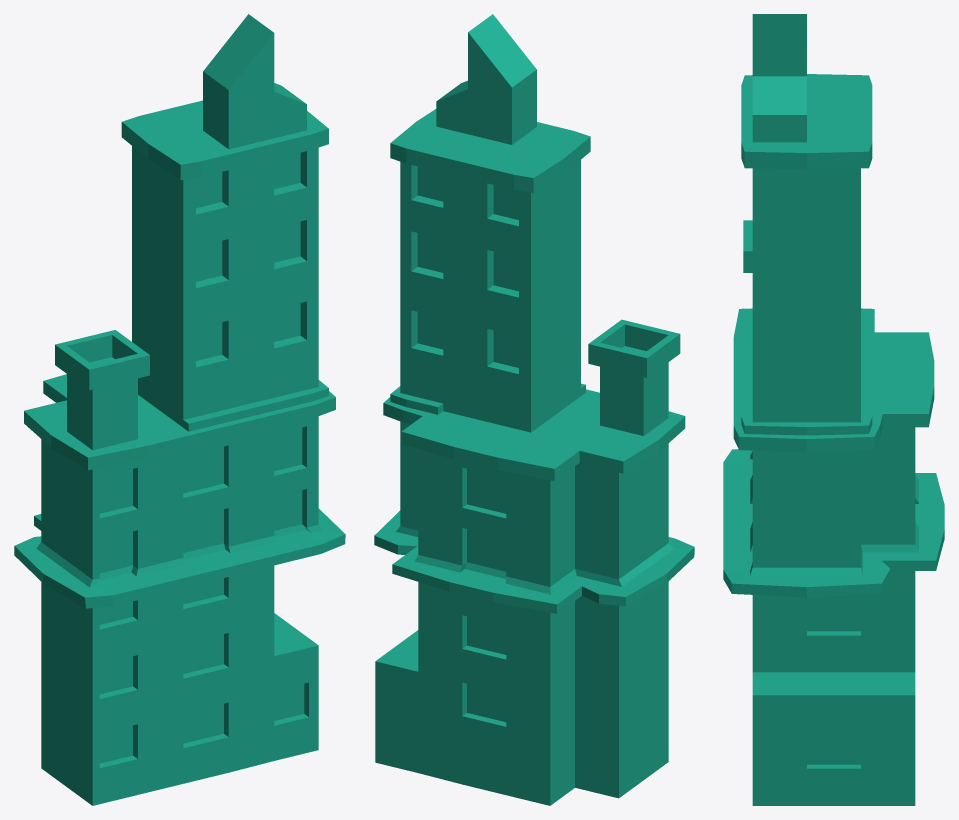
The picture shows the model from 3 angles, left to right: view 1: azimuth 30°, elevation 25°; view 2: azimuth 150°, elevation 25°; view 3: azimuth 270°, elevation 25°; orthographic projection. The views are drawn at different scales.
Parts seen in each view (by area): view 1: Object002, Box001.001, Object003; view 2: Object002, Box001.001, Object003; view 3: Object002, Box001.001, Object003.
Part boxes in pixels (box(x1,y1,x2,y2)): Object002: box(121, 14, 328, 431); Box001.001: box(14, 508, 345, 805); Object003: box(24, 330, 335, 587); Object002: box(390, 14, 590, 432); Box001.001: box(374, 510, 694, 805); Object003: box(383, 319, 685, 594); Object002: box(741, 14, 872, 435); Box001.001: box(723, 449, 944, 805); Object003: box(733, 220, 934, 576).
Bounding box in the file's own units: 3212 × 8164 × 2128.
